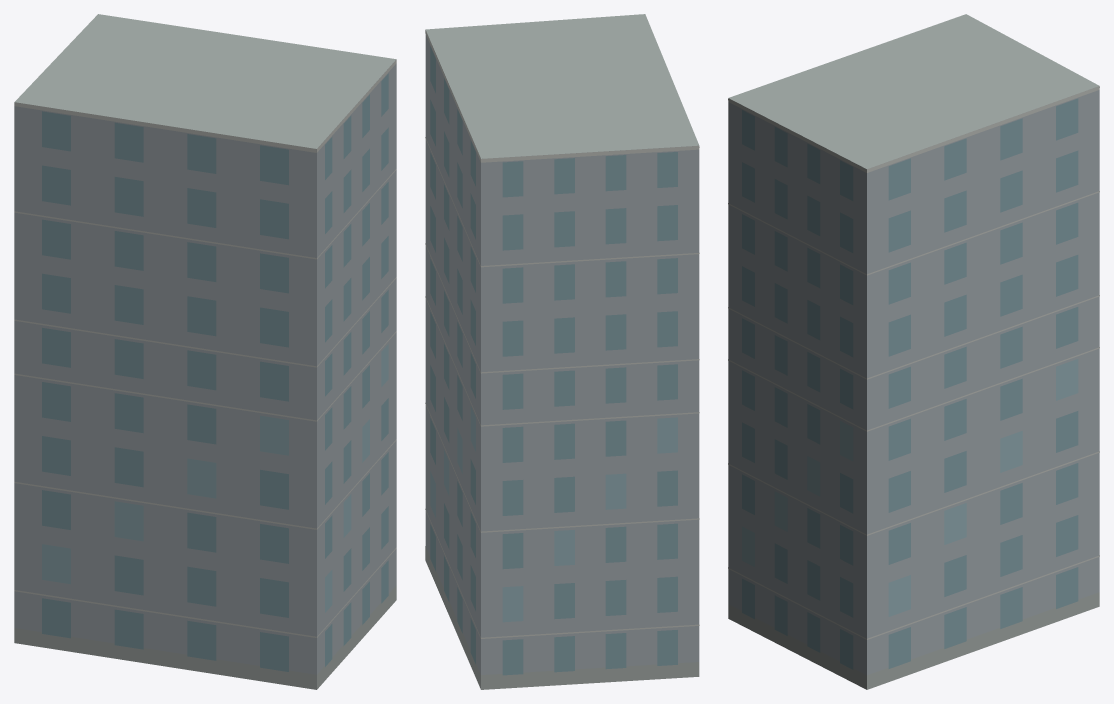
File: residential-a7c06bc9-1ccd-4995-aa9b-96b562a09afc.glb
3 views of the same model, side by side, from view 1: azimuth 30°, elevation 25°; view 2: azimuth 150°, elevation 25°; view 3: azimuth 270°, elevation 25° (orthographic). The views are drawn at different scales.
Visible parts, largest first — view 1: residential-a7c06bc9-1ccd-4995-aa9b-96b562a09afc.tmp; view 2: residential-a7c06bc9-1ccd-4995-aa9b-96b562a09afc.tmp; view 3: residential-a7c06bc9-1ccd-4995-aa9b-96b562a09afc.tmp.
Boxes of the visible parts, x1=… form: residential-a7c06bc9-1ccd-4995-aa9b-96b562a09afc.tmp: x1=14, y1=14, x2=396, y2=689; residential-a7c06bc9-1ccd-4995-aa9b-96b562a09afc.tmp: x1=425, y1=14, x2=699, y2=689; residential-a7c06bc9-1ccd-4995-aa9b-96b562a09afc.tmp: x1=728, y1=14, x2=1099, y2=689.
Bounding box in the file's own units: 21.13 × 33 × 21.36.
